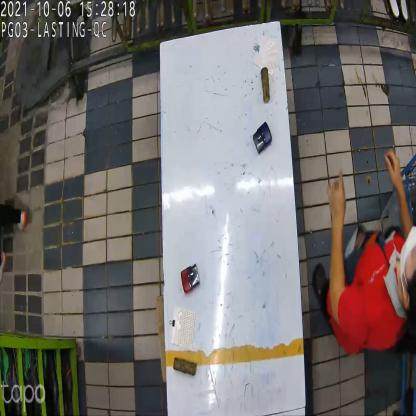stamp: (182, 260, 201, 298), (254, 120, 272, 154)
